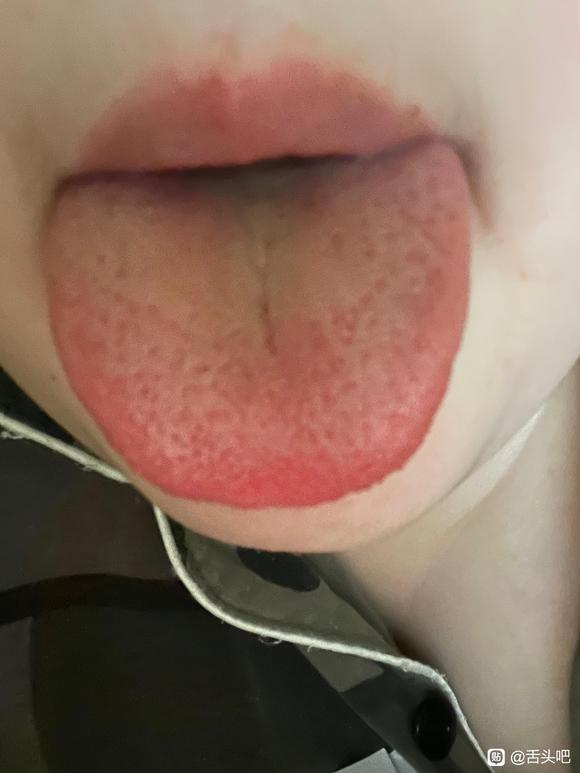hongshe: (46, 139, 473, 508)
huangtaishe: (46, 139, 473, 508)
liewenshe: (253, 239, 280, 355)
